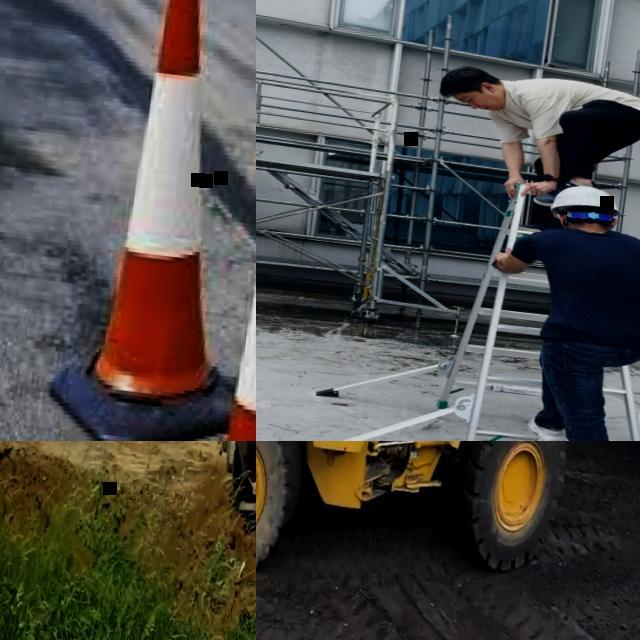helmet: (548, 180, 627, 220)
